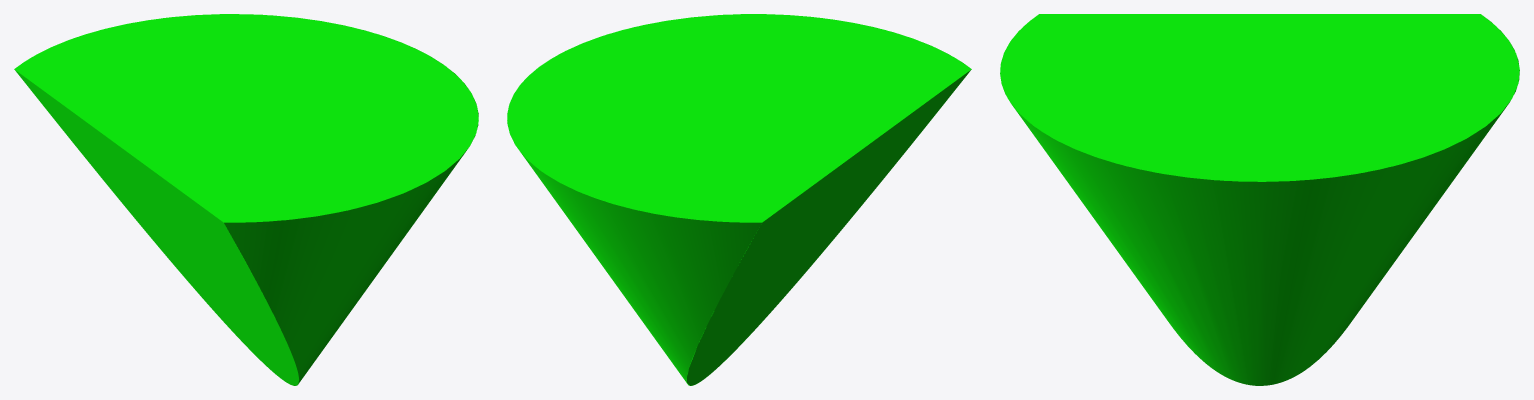
File: yuanzhuijieduanti3.FBX
3 views of the same model, side by side, from view 1: azimuth 30°, elevation 25°; view 2: azimuth 150°, elevation 25°; view 3: azimuth 270°, elevation 25° (orthographic). The views are drawn at different scales.
Parts seen in each view (by area): view 1: TRM_SRF (×3); view 2: TRM_SRF (×3); view 3: TRM_SRF (×2).
Boxes of the visible parts, x1,y1,x2,y2 form: TRM_SRF (×3): (14,14,478,385); TRM_SRF (×3): (507,14,971,385); TRM_SRF (×2): (1000,14,1519,385).
Size of the model in its own units: 30.08 by 24.07 by 39.36.
